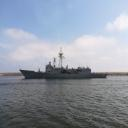Fragata: (19, 46, 109, 81)
